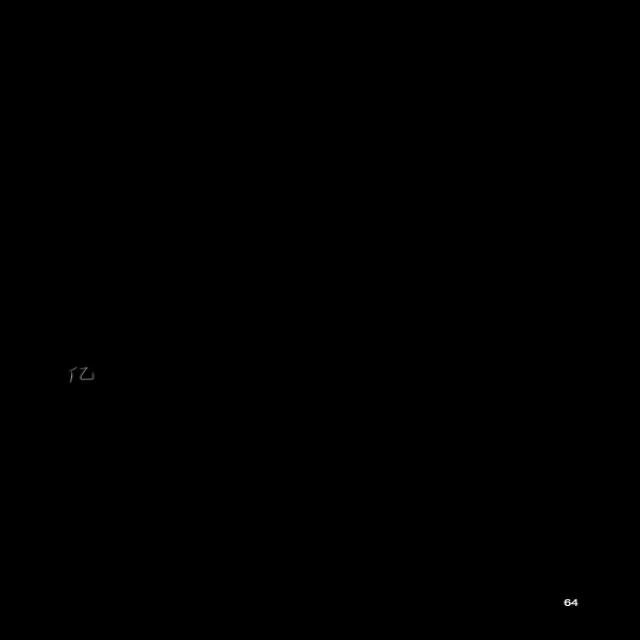100000 -a hundred thousand-: (58, 362, 102, 386)
